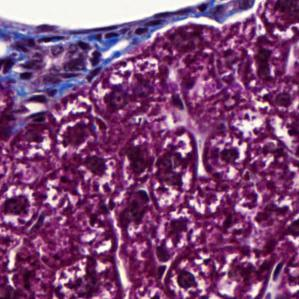inflammation: (154, 135, 199, 192), (164, 261, 205, 299), (3, 187, 36, 228)
